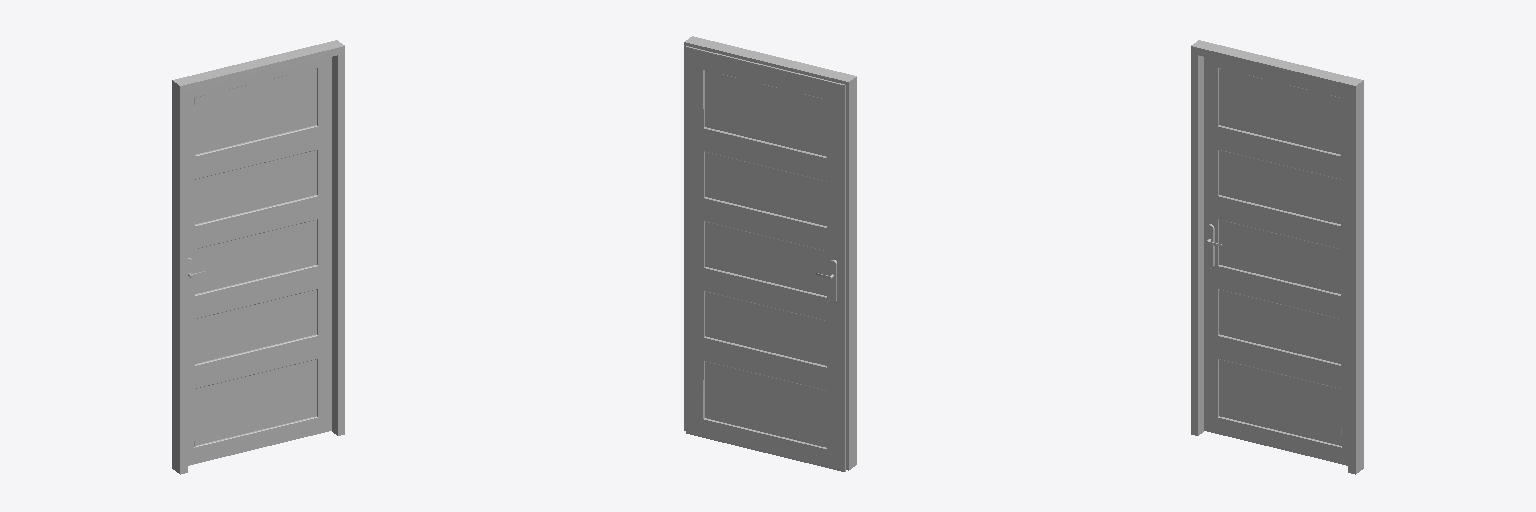
Rendered from woodenDoor_obj.obj.
3 views of the same model, side by side, from view 1: azimuth 30°, elevation 25°; view 2: azimuth 150°, elevation 25°; view 3: azimuth 330°, elevation 25° (orthographic).
Visible parts, largest first — view 1: door, doorFrame; view 2: door, doorFrame; view 3: door, doorFrame.
Part boxes in pixels (bbox=[...]): door: bbox=[188, 57, 331, 465]; doorFrame: bbox=[172, 40, 344, 474]; door: bbox=[686, 46, 845, 471]; doorFrame: bbox=[684, 36, 856, 470]; door: bbox=[1204, 57, 1347, 465]; doorFrame: bbox=[1191, 40, 1363, 474].
Size of the model in its own units: 35.84 by 80.98 by 5.09.